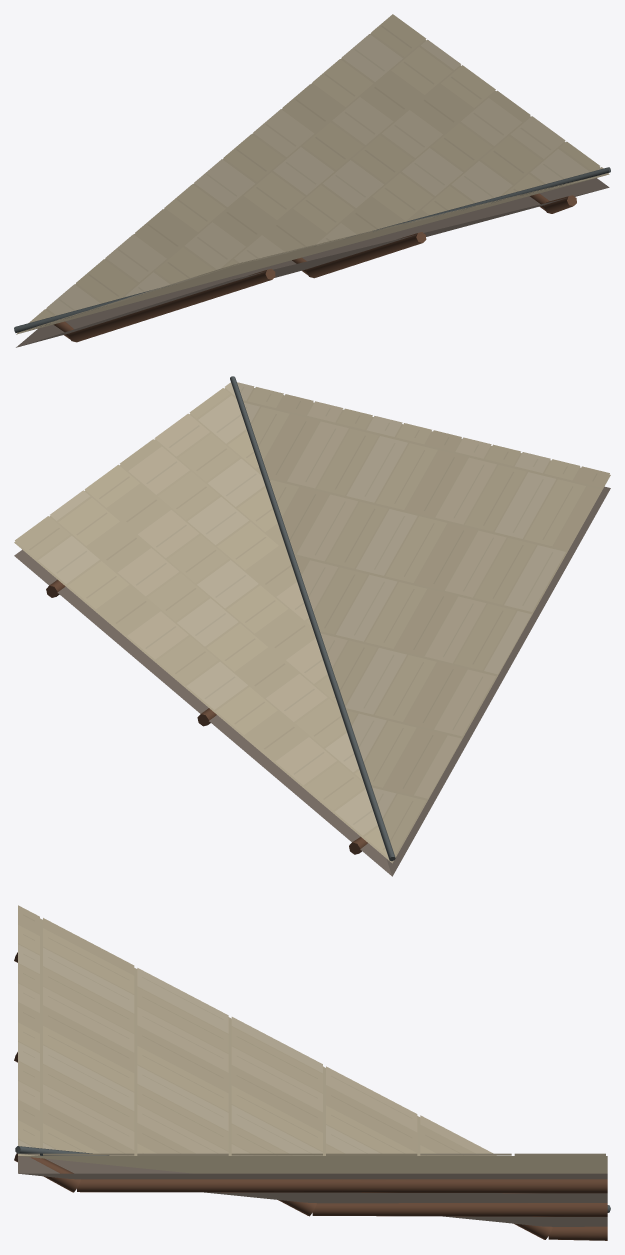
Rendered from Roof_Valley_30.glb.
3 renders of one model, top to bottom at view 1: azimuth 30°, elevation 25°; view 2: azimuth 150°, elevation 25°; view 3: azimuth 270°, elevation 25°, orthographic. The views are drawn at different scales.
Visible parts, largest first — view 1: _MeshInstance3D_3571, _MeshInstance3D_3573, _MeshInstance3D_3578, _MeshInstance3D_3575; view 2: _MeshInstance3D_3571, _MeshInstance3D_3578; view 3: _MeshInstance3D_3571, _MeshInstance3D_3576, _MeshInstance3D_3574, _MeshInstance3D_3572, _MeshInstance3D_3577, _MeshInstance3D_3578.
Boxes of the visible parts, box(x1,y1,x2,y2) form: _MeshInstance3D_3571: box(16, 14, 609, 347); _MeshInstance3D_3573: box(69, 268, 275, 342); _MeshInstance3D_3578: box(14, 167, 610, 332); _MeshInstance3D_3575: box(306, 232, 426, 278); _MeshInstance3D_3571: box(14, 382, 610, 876); _MeshInstance3D_3578: box(230, 376, 395, 861); _MeshInstance3D_3571: box(18, 905, 607, 1226); _MeshInstance3D_3576: box(77, 1179, 607, 1193); _MeshInstance3D_3574: box(312, 1203, 607, 1216); _MeshInstance3D_3572: box(548, 1226, 607, 1240); _MeshInstance3D_3577: box(14, 1153, 80, 1192); _MeshInstance3D_3578: box(15, 1146, 610, 1212).
Bounding box in the file's own units: 3.03 × 1.88 × 3.04.
